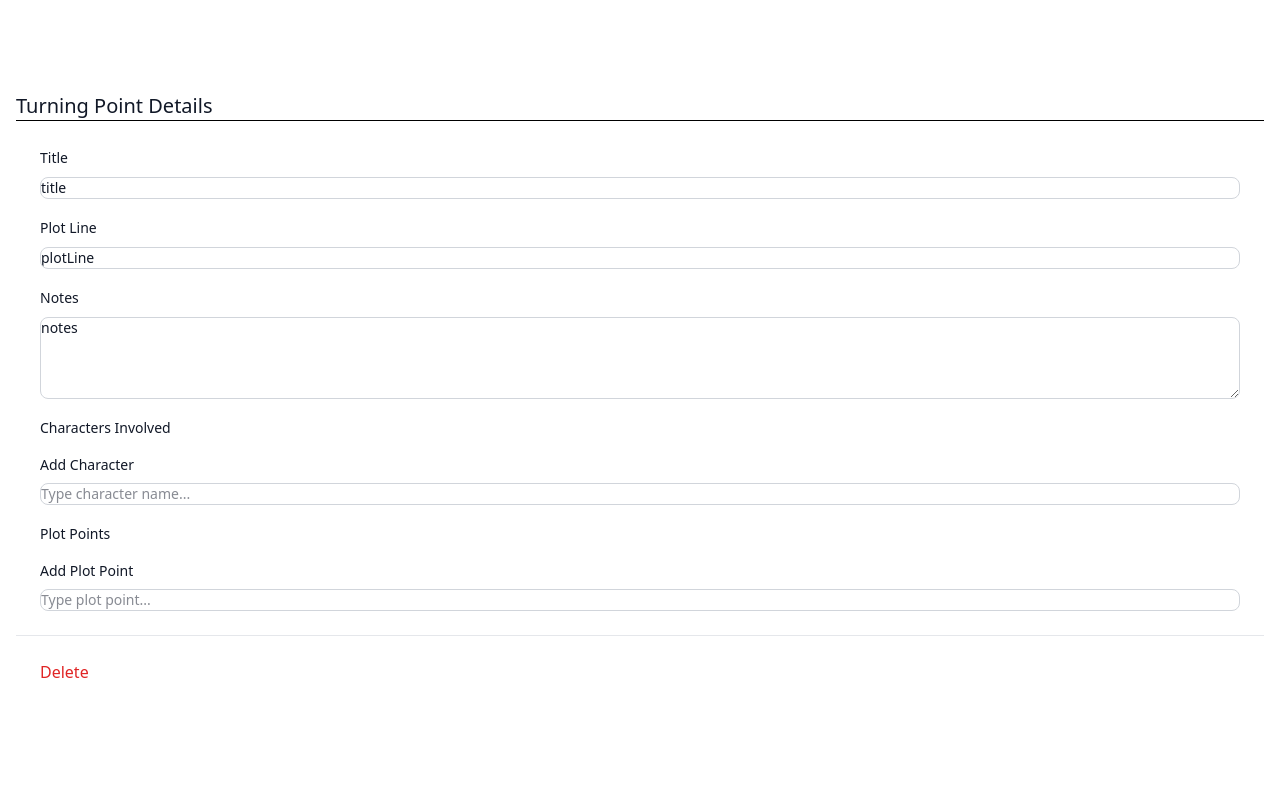
Test case: TurningPointModal › Delete Functionality › should show confirmation dialog with all required elements when Delete button is clicked
This screenshot has width=1280, height=800.
Click the button with test id "turning-point-delete-button": point(64, 672) left=40, top=660, right=89, bottom=684
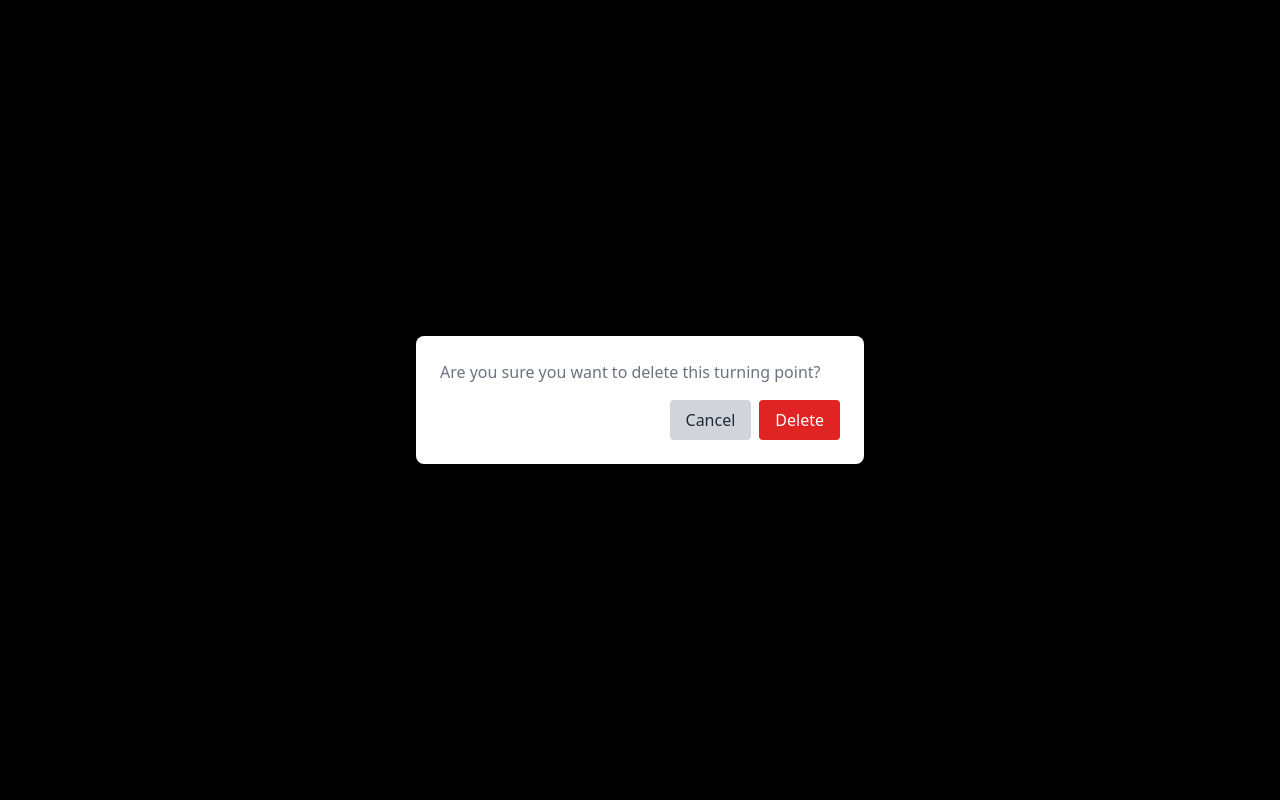
expect the dialog with test id "delete-confirmation-dialog" is shown: met, box left=416, top=336, right=864, bottom=464
expect the button with test id "delete-confirm-button" is shown: met, box left=759, top=400, right=840, bottom=440
expect the button with test id "delete-cancel-button" is shown: met, box left=670, top=400, right=751, bottom=440
